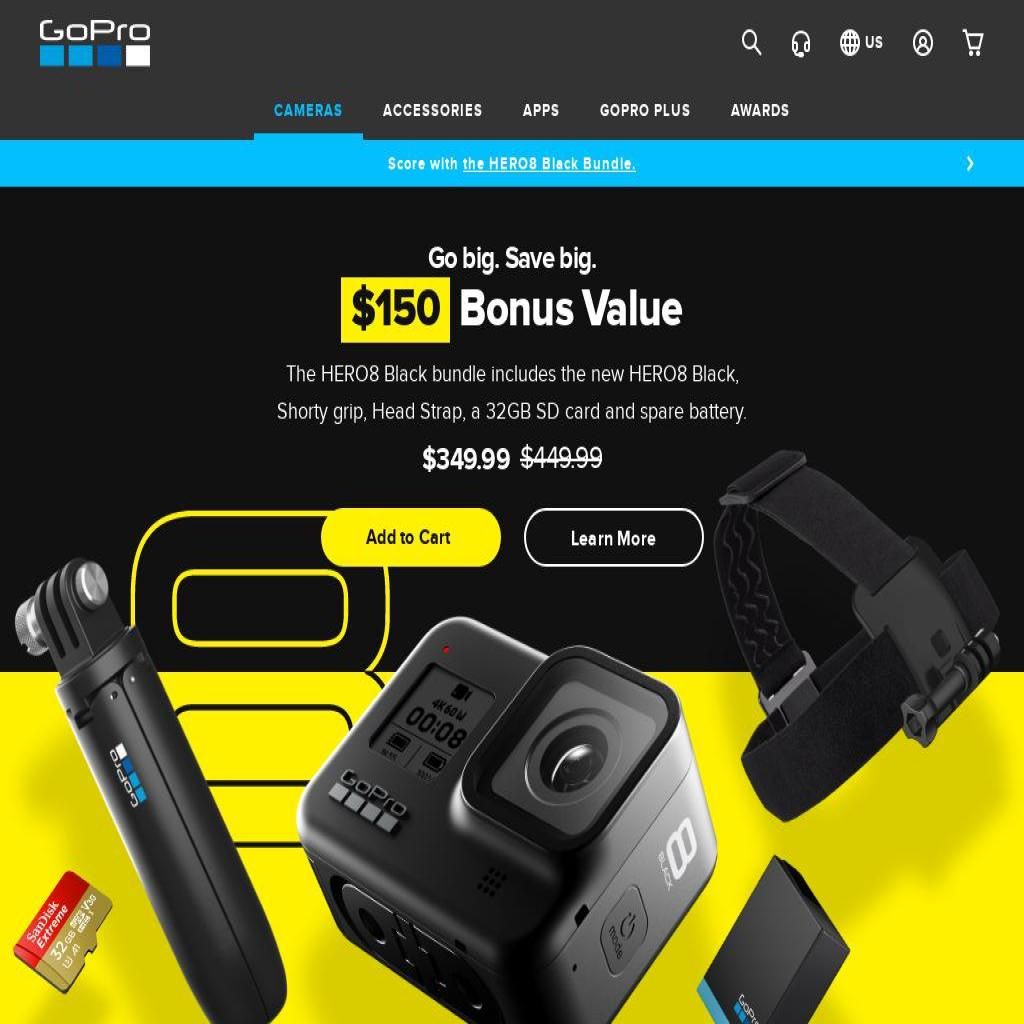button: (320, 505, 500, 566), (520, 506, 702, 565)
icon: (35, 13, 164, 76), (736, 25, 763, 62), (836, 27, 865, 61), (961, 24, 986, 62), (790, 28, 813, 60), (912, 27, 935, 58), (966, 150, 973, 178)
label: (383, 92, 487, 128), (268, 94, 352, 126), (728, 99, 798, 124), (597, 101, 694, 119), (518, 97, 563, 123), (866, 30, 886, 54)
